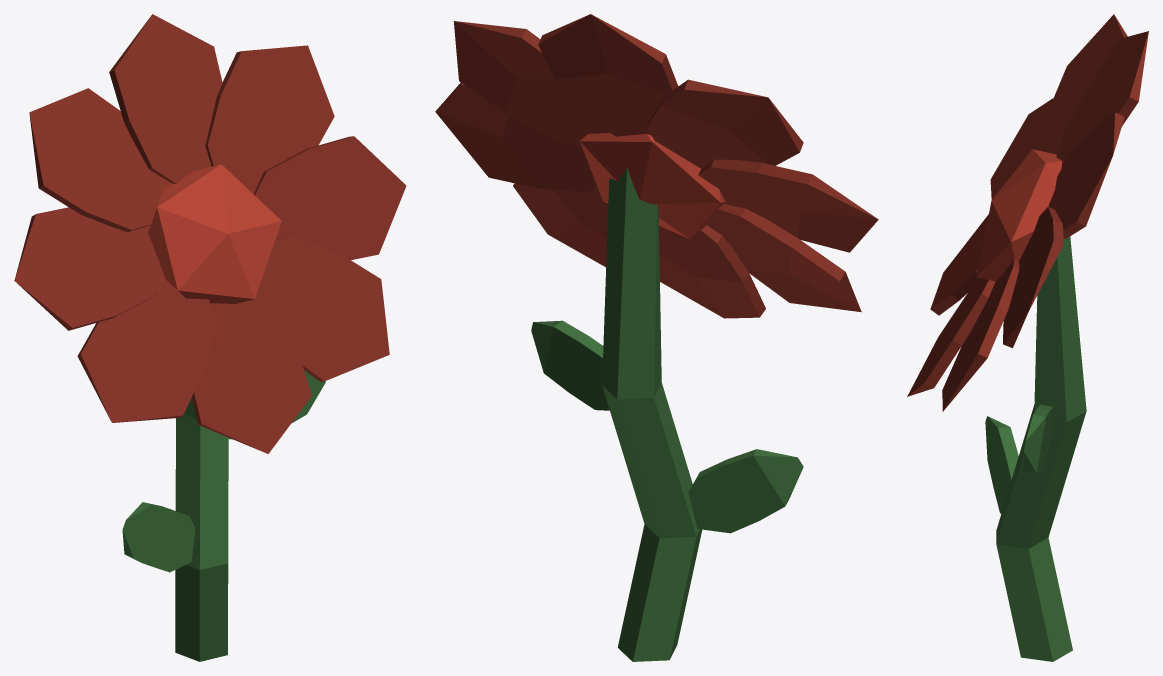
Rendered from Flower_4_Red.fbx.
The picture shows the model from 3 angles, left to right: view 1: azimuth 30°, elevation 25°; view 2: azimuth 150°, elevation 25°; view 3: azimuth 270°, elevation 25°; orthographic projection. The views are drawn at different scales.
Visible parts, largest first — view 1: Flower_4_Red_Part_1, Flower_4_Red_Part_3, Flower_4_Red_Part_2; view 2: Flower_4_Red_Part_1, Flower_4_Red_Part_3, Flower_4_Red_Part_2; view 3: Flower_4_Red_Part_1, Flower_4_Red_Part_3, Flower_4_Red_Part_2.
Boxes of the visible parts, <box> form: Flower_4_Red_Part_1: <box>14,14,406,453</box>; Flower_4_Red_Part_3: <box>122,370,325,661</box>; Flower_4_Red_Part_2: <box>148,164,281,303</box>; Flower_4_Red_Part_1: <box>435,14,878,318</box>; Flower_4_Red_Part_3: <box>531,168,803,661</box>; Flower_4_Red_Part_2: <box>579,133,725,239</box>; Flower_4_Red_Part_1: <box>907,14,1148,411</box>; Flower_4_Red_Part_3: <box>985,236,1086,661</box>; Flower_4_Red_Part_2: <box>976,149,1062,281</box>.
Size of the model in its own units: 32.5 by 47.45 by 16.79.
